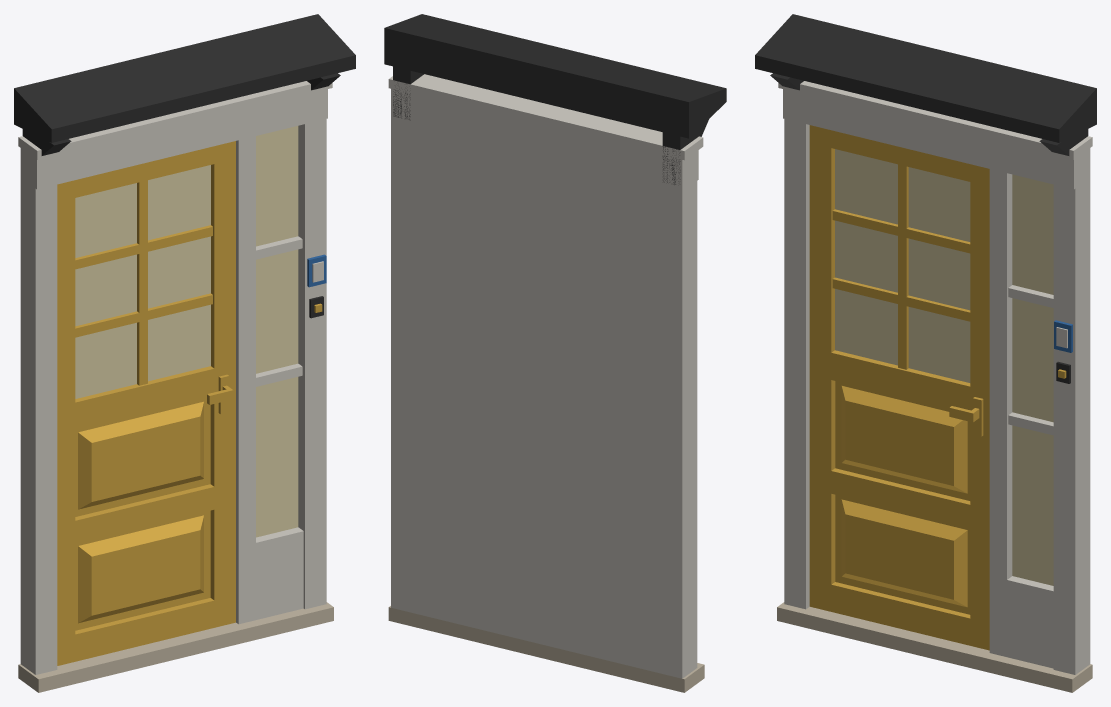
File: kapi_camli_3.glb
3 renders of one model, left to right at view 1: azimuth 30°, elevation 25°; view 2: azimuth 150°, elevation 25°; view 3: azimuth 330°, elevation 25°, orthographic.
Visible parts, largest first — view 1: kapi_camli_3; view 2: kapi_camli_3; view 3: kapi_camli_3.
Boxes of the visible parts, bbox=[...] form: kapi_camli_3: bbox=[14, 14, 355, 692]; kapi_camli_3: bbox=[384, 14, 726, 692]; kapi_camli_3: bbox=[755, 14, 1096, 692].
Size of the model in its own units: 1.4 by 2.6 by 0.3.
